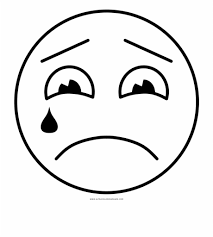triste: (5, 8, 204, 193), (38, 35, 174, 162), (43, 60, 170, 161)
